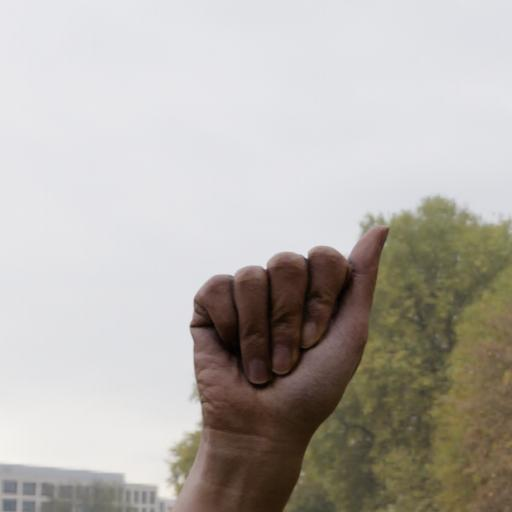A: (152, 208, 404, 460)
